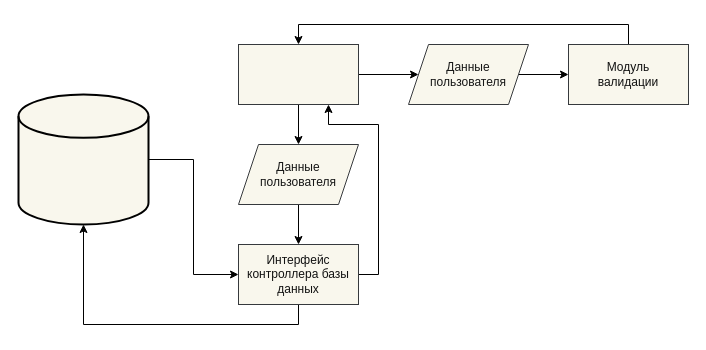
Image size: 706x350. Some labels were removed from this diagram. The shapes that lost their labels are listed below. From the top down, each one's box as (x1, y1, x2, y2) in pixels, then its label:
(238, 44, 358, 104): Интерфейс пользователя
(17, 93, 149, 225): База данных студентов
